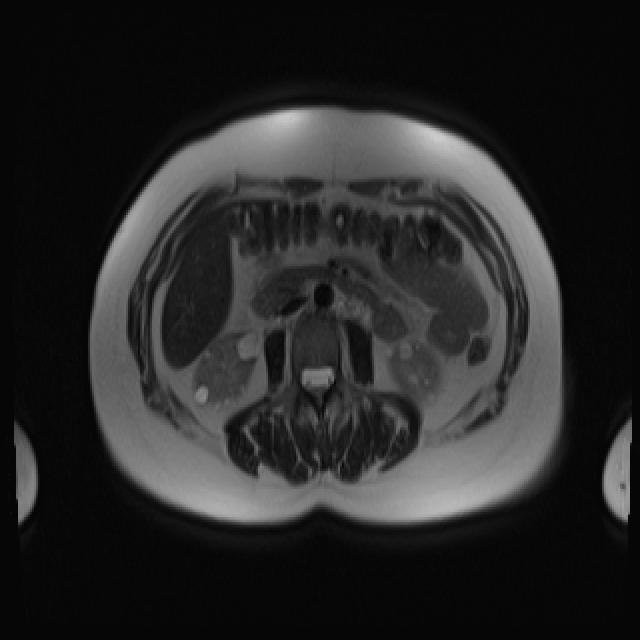sag: (193, 329, 263, 409)
sol: (386, 337, 438, 407)
